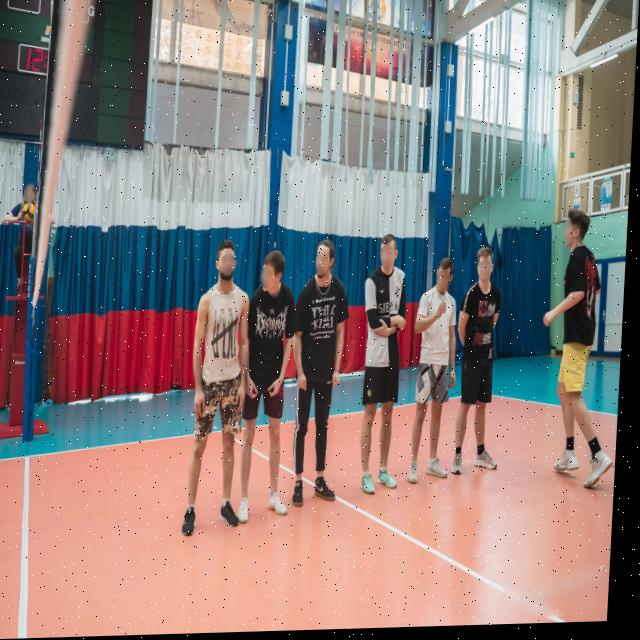Person: (546, 210, 629, 504), (183, 234, 257, 557), (238, 246, 309, 534), (291, 235, 358, 519), (358, 235, 419, 503), (453, 245, 512, 491), (413, 259, 466, 499)
